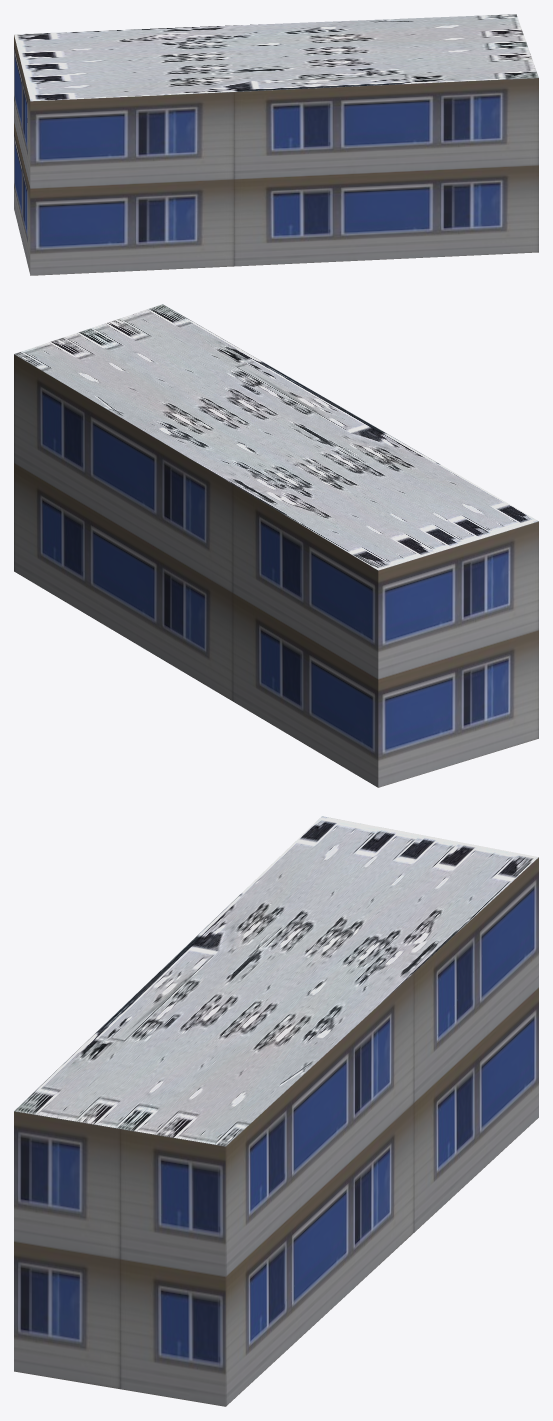
Rendered from ResTex__537.fbx.
3 views of the same model, one above another, from view 1: azimuth 30°, elevation 25°; view 2: azimuth 150°, elevation 25°; view 3: azimuth 270°, elevation 25° (orthographic). The views are drawn at different scales.
Visible parts, largest first — view 1: CityEngineMaterial_23_m, CityEngineMaterial_m; view 2: CityEngineMaterial_23_m, CityEngineMaterial_m; view 3: CityEngineMaterial_23_m, CityEngineMaterial_m.
Part boxes in pixels (x1,y1,x2,y2): CityEngineMaterial_23_m: [14, 35, 538, 275]; CityEngineMaterial_m: [14, 14, 538, 101]; CityEngineMaterial_23_m: [14, 354, 538, 787]; CityEngineMaterial_m: [14, 304, 538, 570]; CityEngineMaterial_23_m: [14, 857, 538, 1406]; CityEngineMaterial_m: [14, 816, 538, 1146].
Bounding box in the file's own units: 16.33 × 6 × 10.96.
Materials: 2 (2 with a texture image).
